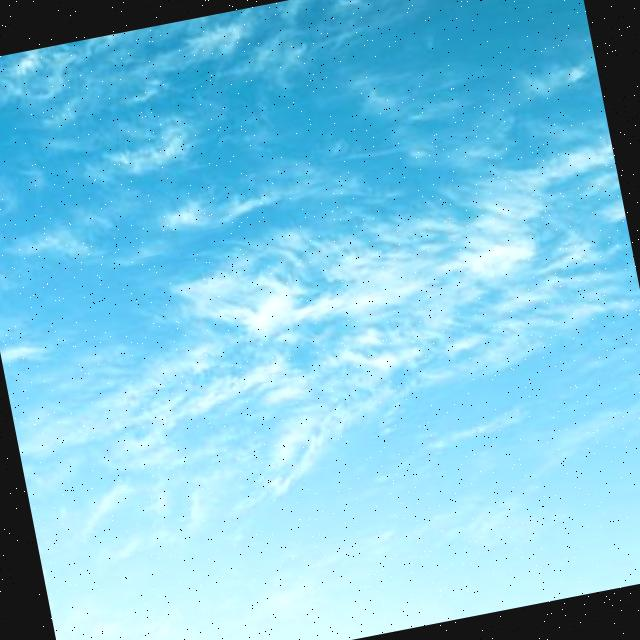Ci: (1, 74, 640, 583)
